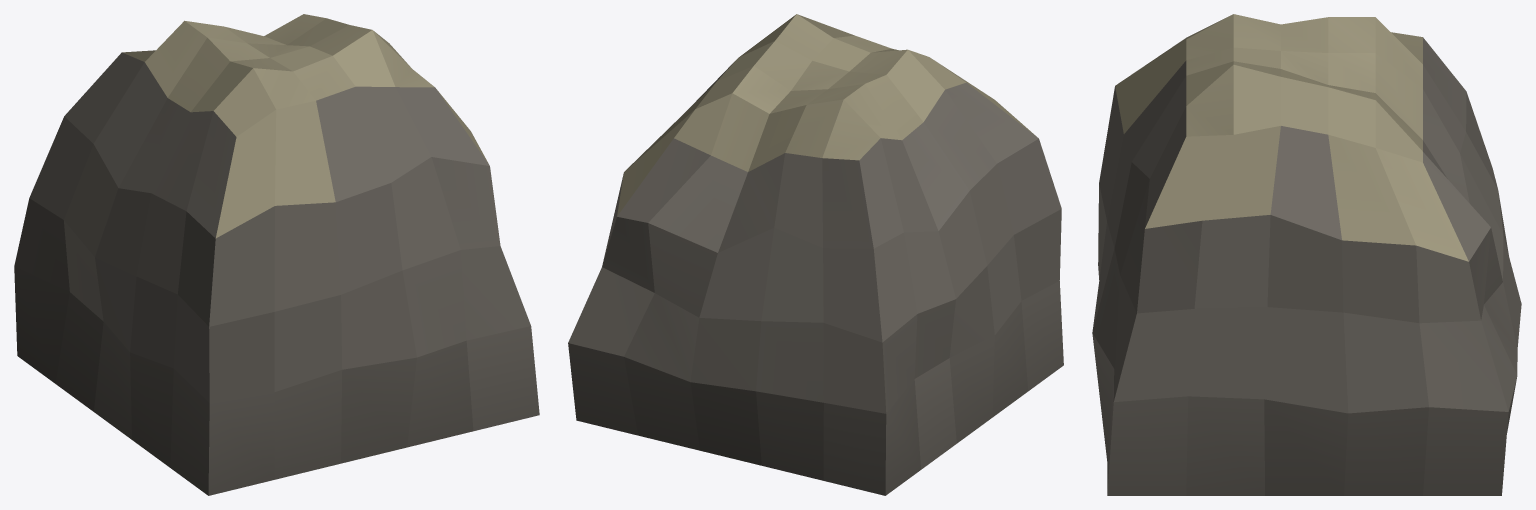
File: roca_suelta_3.glb
The picture shows the model from 3 angles, left to right: view 1: azimuth 30°, elevation 25°; view 2: azimuth 150°, elevation 25°; view 3: azimuth 270°, elevation 25°; orthographic projection. The views are drawn at different scales.
Visible parts, largest first — view 1: propforge-cuartos-roca_suelta; view 2: propforge-cuartos-roca_suelta; view 3: propforge-cuartos-roca_suelta.
Boxes of the visible parts, x1,y1,x2,y2 form: propforge-cuartos-roca_suelta: [14, 14, 539, 495]; propforge-cuartos-roca_suelta: [568, 14, 1063, 495]; propforge-cuartos-roca_suelta: [1092, 14, 1521, 495].
Size of the model in its own units: 0.8487 by 0.8456 by 0.8704.
